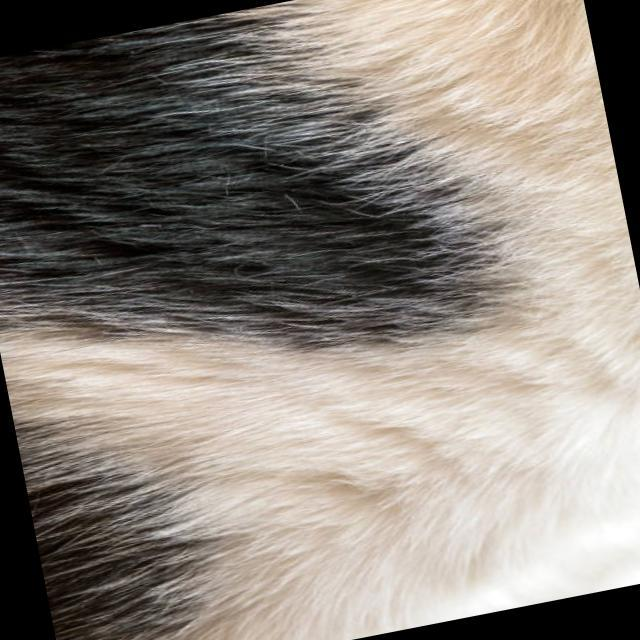Healthy skin: (12, 32, 444, 328), (29, 342, 395, 640), (390, 241, 640, 569), (425, 0, 589, 236)
